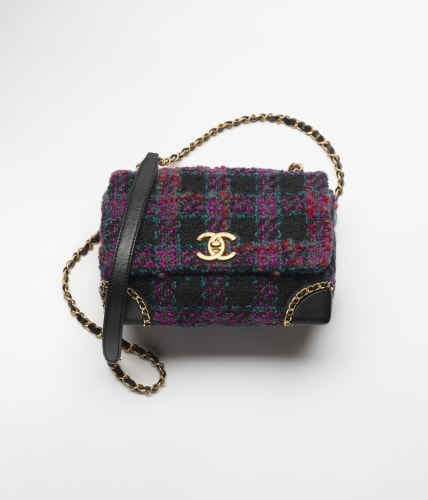channel: (85, 142, 379, 348), (174, 225, 256, 272), (218, 114, 319, 137)
